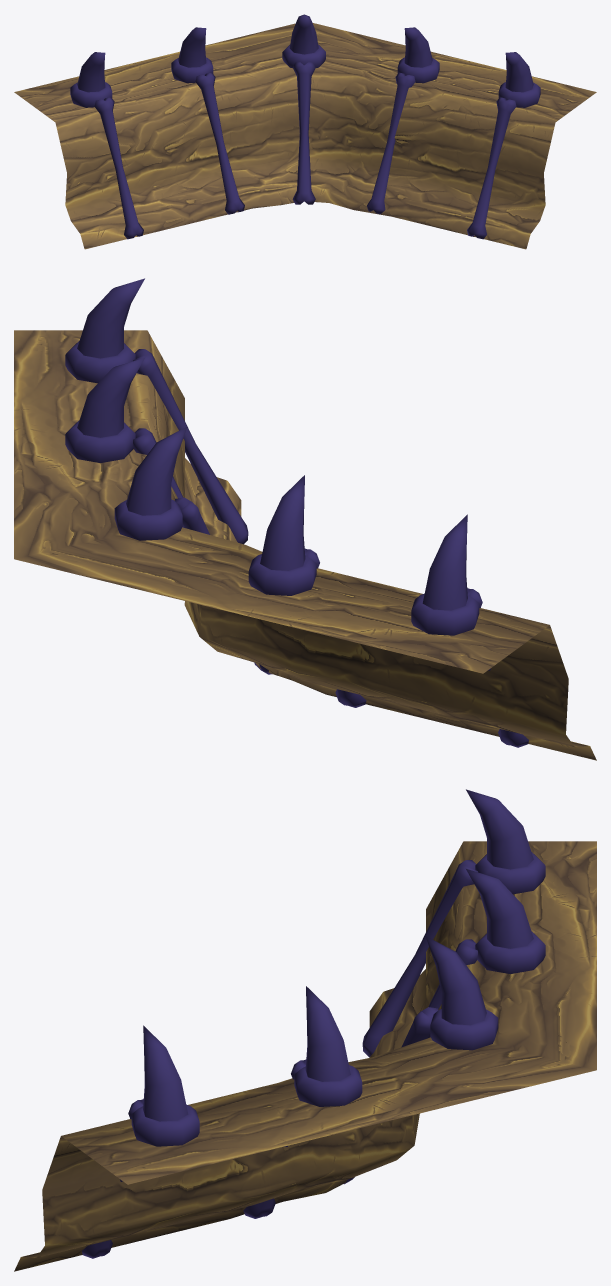
The model's file is Wall_LevelEdge_Inner_01.FBX.
The picture shows the model from 3 angles, top to bottom: view 1: azimuth 30°, elevation 25°; view 2: azimuth 150°, elevation 25°; view 3: azimuth 270°, elevation 25°; orthographic projection. The views are drawn at different scales.
Parts seen in each view (by area): view 1: Wall_LevelEdge_Inner_01; view 2: Wall_LevelEdge_Inner_01; view 3: Wall_LevelEdge_Inner_01.
Part boxes in pixels (<box>): Wall_LevelEdge_Inner_01: <box>14,14,596,249</box>; Wall_LevelEdge_Inner_01: <box>14,278,596,760</box>; Wall_LevelEdge_Inner_01: <box>14,789,596,1271</box>.
Size of the model in its own units: 17.32 by 6.23 by 12.42.
